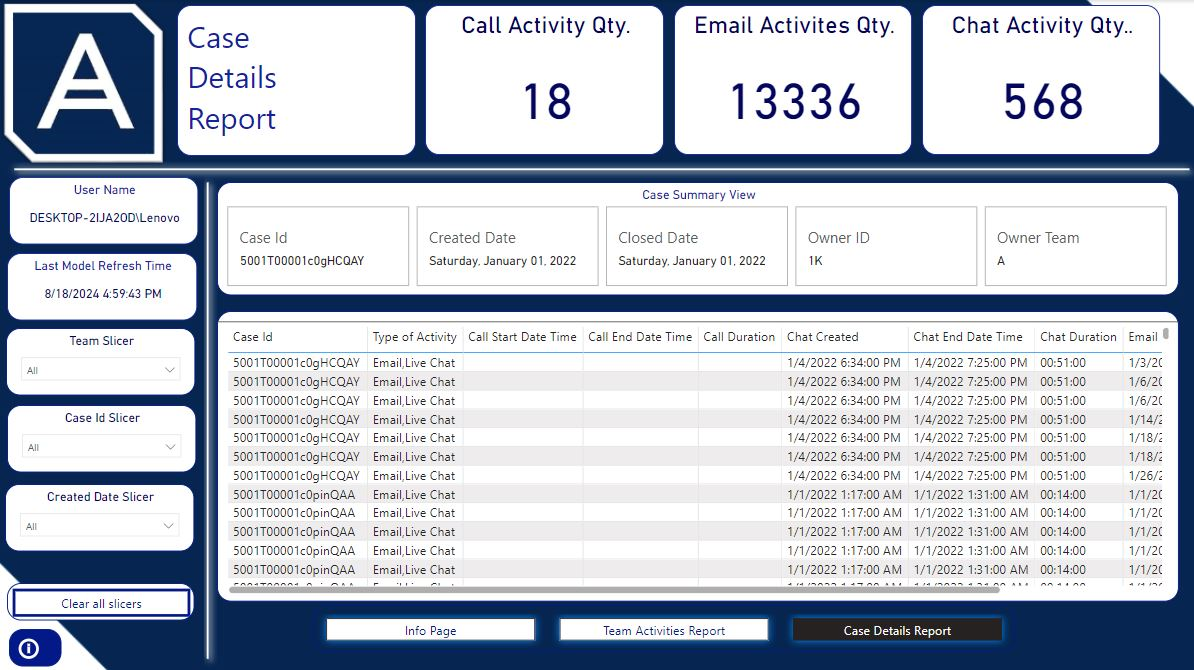

What the dashboard file says about the page in this screenshot:
{"tool":"powerbi","page":{"name":"Case Details Report","canvas":[1280,720],"ordinal":2},"visuals":[{"type":"card","title":"User Name","fields":{"Values":["Measure Table.User Name"]},"box":[11.7,188.9,202,72],"z":0},{"type":"card","title":"Last Model Refresh Time","fields":{"Values":["Min(Model Refresh Time.Refresh Time)"]},"box":[9.6,269.6,202.7,72.2],"z":1000},{"type":"shape","box":[8.8,167.3,1271.2,26.3],"z":2000},{"type":"textbox","box":[190.9,5.7,255.4,161.4],"z":3000},{"type":"cardVisual","title":"Case Summary View","fields":{"Data":["Min(Case Info.case id)","Min(Case Info.created date)","Min(Case Info.closed date)","CountNonNull(Case Info.ownerid)","Min(Case Info.owner_team)"]},"box":[233.6,194.1,1026.1,120.5],"z":4000},{"type":"shape","box":[213.7,185.5,20.6,526.1],"z":5000},{"type":"card","title":"Call Activity Qty.","fields":{"Values":["Measure Table Case Details Report.Case ID Count"]},"box":[455.8,5.7,255.4,160.5],"z":6000},{"type":"card","title":"Email Activites Qty.","fields":{"Values":["Measure Table Case Details Report.Email Qty."]},"box":[720.7,5.7,254.5,160.5],"z":7000},{"type":"card","title":"Chat Activity Qty..","fields":{"Values":["Measure Table Case Details Report.Chat Qty."]},"box":[985.6,5.7,254.5,160.5],"z":8000},{"type":"actionButton","box":[11.9,671.5,56.4,40.1],"z":9000},{"type":"pageNavigator","box":[336,645.3,748.8,50.1],"z":10000},{"type":"slicer","title":"Team Slicer","fields":{"Values":["Case Info.owner_team"]},"box":[8.5,350.2,202,72],"z":11000},{"type":"slicer","title":"Case Id Slicer","fields":{"Values":["Case Info.case id"]},"box":[9.6,432,201.7,72.2],"z":12000},{"type":"actionButton","box":[9.8,622,199.6,40.1],"z":13000},{"type":"slicer","title":"Created Date Slicer","fields":{"Values":["Case Info.created date"]},"box":[7.4,515.8,201.7,72.2],"z":14000},{"type":"tableEx","title":"Case Details Table","fields":{"Values":["Case Details.case id","Case Details.Type of Activity","Case Details.Call Start Date Time","Case Details.Call End Date Time","Case Details.Call Duration","Case Details.Live Chat Info Created Date Time","Case Details.Chat End Date Time","Case Details.Chat Duration","Case Details.Email Sent Date Time","Case Details.Emails Info.incoming"]},"box":[233.6,331.7,1026.1,310.4],"z":15000}]}

Visuals, with their boxes in screenshot pixels (x1, y1, x2, y2), scaled from the page's 1280x720 canvas onto the 1194x670 screenshot:
"User Name" card: [11,176,199,243]
"Last Model Refresh Time" card: [9,251,198,318]
shape: [8,156,1193,180]
textbox: [178,5,416,155]
"Case Summary View" cardVisual: [218,181,1175,293]
shape: [199,173,219,662]
"Call Activity Qty." card: [425,5,663,155]
"Email Activites Qty." card: [672,5,910,155]
"Chat Activity Qty.." card: [919,5,1157,155]
actionButton: [11,625,64,662]
pageNavigator: [313,600,1012,647]
"Team Slicer" slicer: [8,326,196,393]
"Case Id Slicer" slicer: [9,402,197,469]
actionButton: [9,579,195,616]
"Created Date Slicer" slicer: [7,480,195,547]
"Case Details Table" tableEx: [218,309,1175,598]
